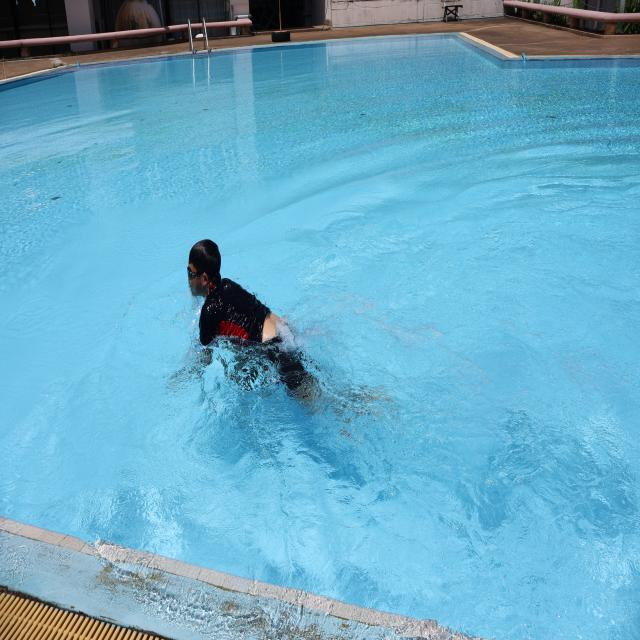Swimming: (187, 238, 363, 410)
